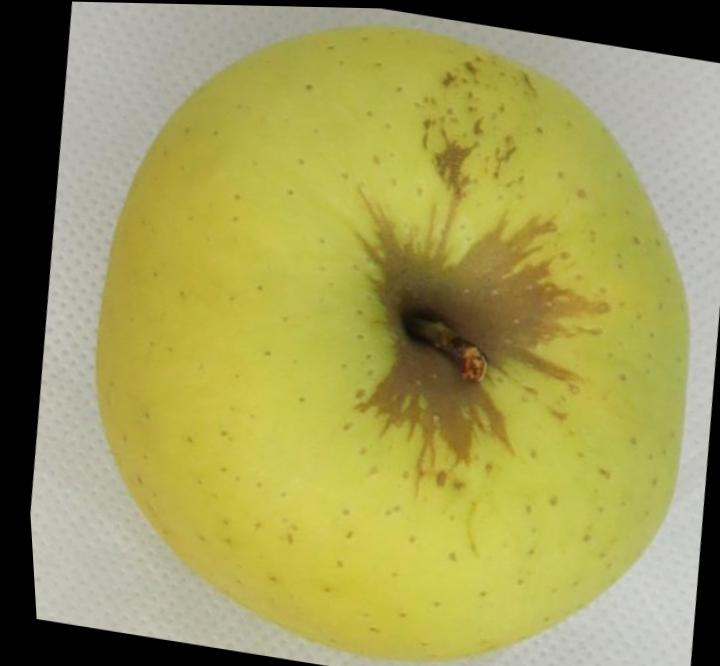apple: (97, 25, 686, 660)
bruise_discoloration: (359, 204, 609, 462)
